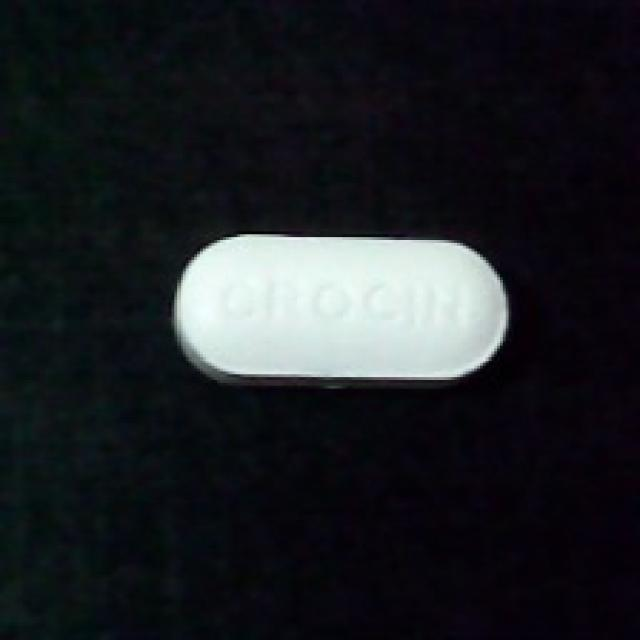no-defect: (166, 229, 517, 389)
